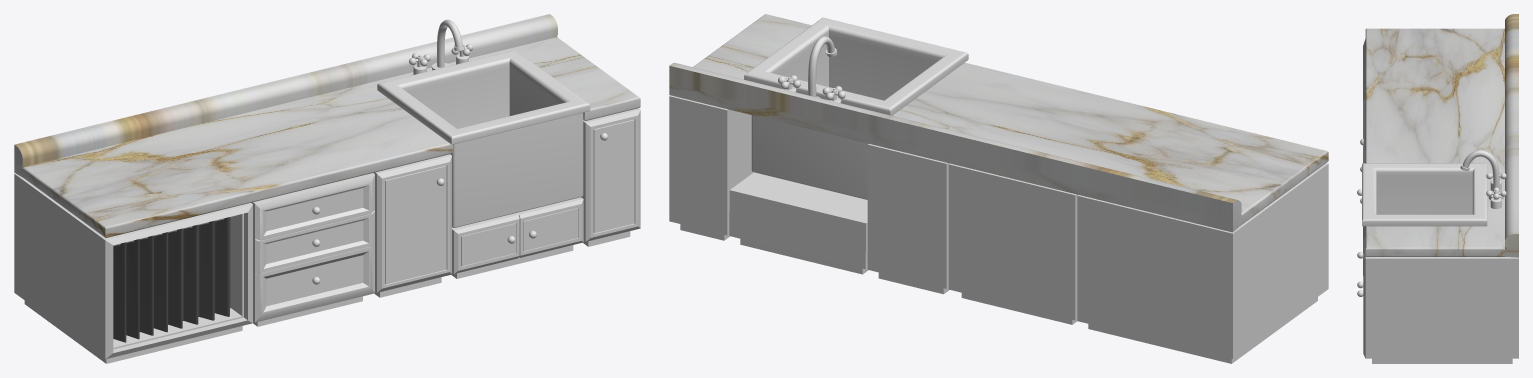
The model's file is kitchen_shelf.fbx.
The picture shows the model from 3 angles, left to right: view 1: azimuth 30°, elevation 25°; view 2: azimuth 150°, elevation 25°; view 3: azimuth 270°, elevation 25°; orthographic projection. The views are drawn at different scales.
Parts seen in each view (by area): view 1: Cube.008, Cube.002, Cube.001, Cube.006, Plane.002, Cube.005, Cube.004, Cube.003, BézierCurve; view 2: Cube.008, Cube.001, Cube.002, Cube.006, Cube.005, Cube.003, Cube.004, BézierCurve; view 3: Cube.008, Cube.004, Cube.002, BézierCurve, Sphere.002, Cube.001, Sphere, Cube.006, Sphere.001.
Part boxes in pixels (x1=…): Cube.008: x1=14, y1=14, x2=640, y2=237; Cube.002: x1=377, y1=50, x2=590, y2=227; Cube.001: x1=14, y1=173, x2=252, y2=363; Cube.006: x1=251, y1=173, x2=374, y2=326; Plane.002: x1=113, y1=217, x2=230, y2=342; Cube.005: x1=373, y1=154, x2=451, y2=297; Cube.004: x1=581, y1=108, x2=640, y2=246; Cube.003: x1=451, y1=197, x2=583, y2=278; BézierCurve: x1=432, y1=19, x2=464, y2=70; Cube.008: x1=669, y1=14, x2=1328, y2=232; Cube.001: x1=1077, y1=163, x2=1328, y2=363; Cube.002: x1=744, y1=17, x2=968, y2=199; Cube.006: x1=948, y1=163, x2=1077, y2=324; Cube.005: x1=867, y1=144, x2=949, y2=294; Cube.003: x1=729, y1=172, x2=868, y2=274; Cube.004: x1=669, y1=95, x2=753, y2=240; BézierCurve: x1=808, y1=36, x2=837, y2=98; Cube.008: x1=1365, y1=14, x2=1518, y2=257; Cube.004: x1=1363, y1=236, x2=1518, y2=363; Cube.002: x1=1362, y1=163, x2=1487, y2=226; BézierCurve: x1=1460, y1=150, x2=1503, y2=199; Sphere.002: x1=1486, y1=187, x2=1506, y2=208; Cube.001: x1=1363, y1=39, x2=1365, y2=154; Sphere: x1=1357, y1=139, x2=1363, y2=296; Cube.006: x1=1363, y1=100, x2=1365, y2=153; Sphere.001: x1=1486, y1=173, x2=1506, y2=190.
Size of the model in its own units: 404 by 142 by 125.
Materials: 6 (1 with a texture image).
